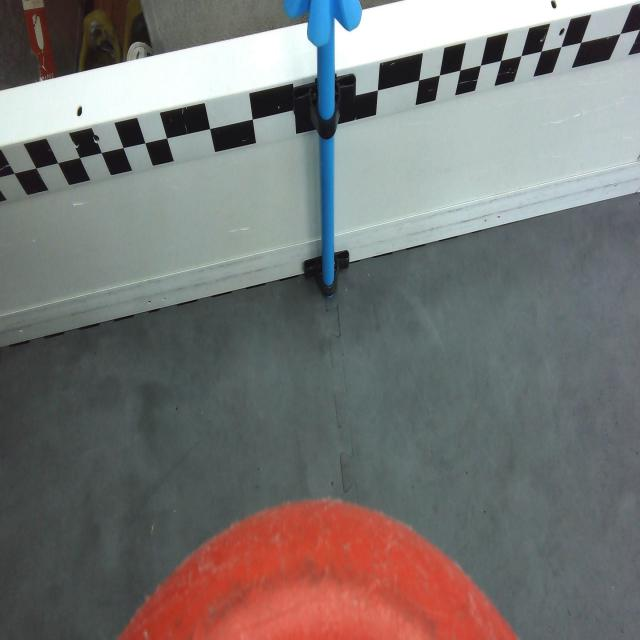zblue-Stake-Head: (283, 0, 364, 48)
